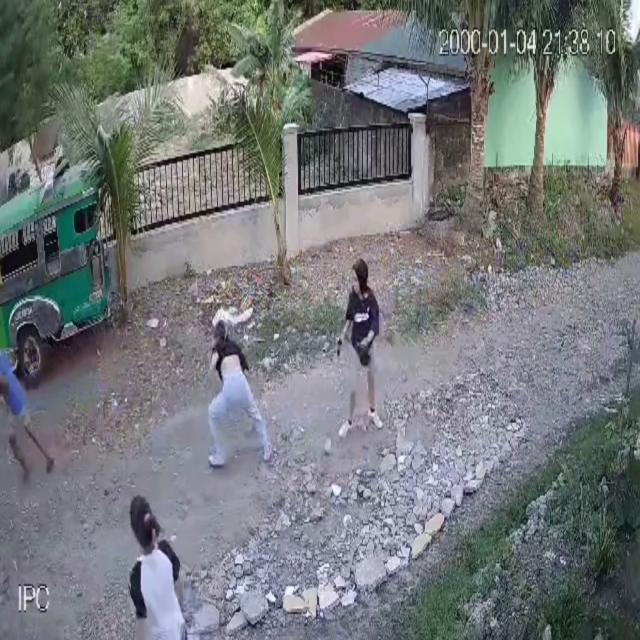running: (199, 318, 274, 474), (333, 254, 390, 438), (127, 494, 193, 640), (0, 330, 60, 486)
